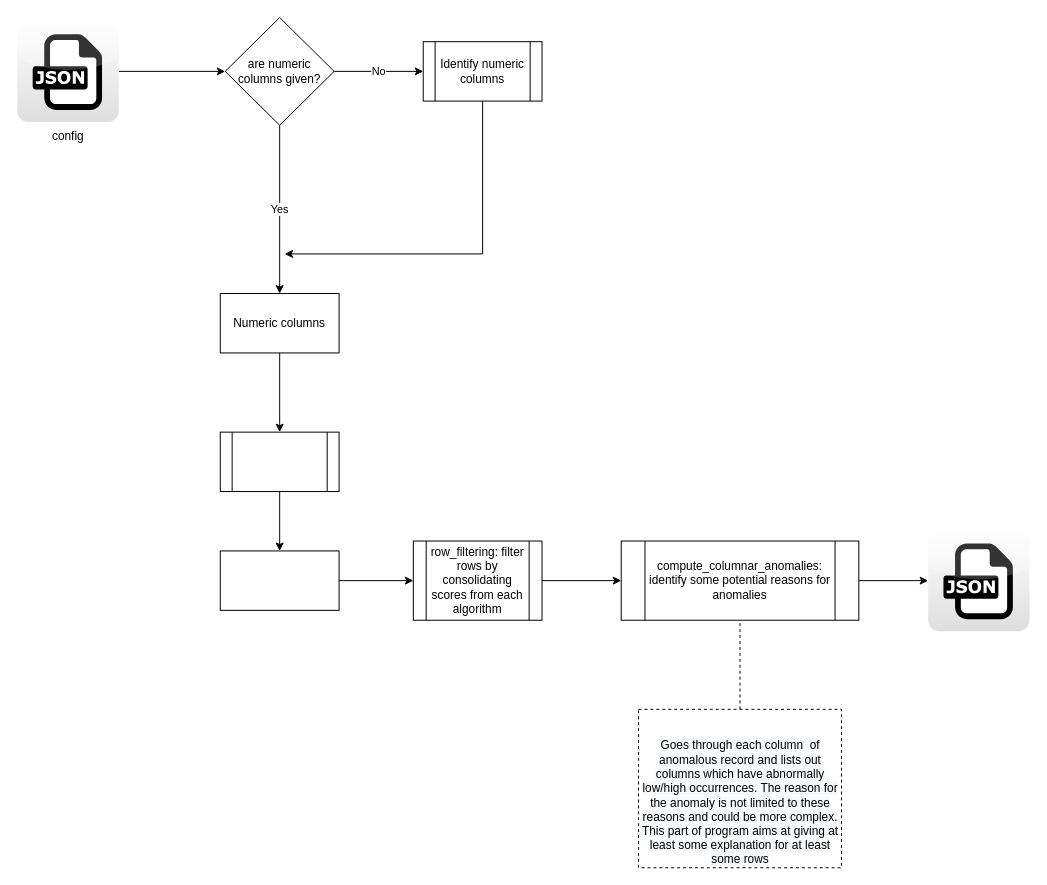
This 1047x885 diagram has some shape labels left out. Here are the shapes that lost their labels. From the top down, the box of each, then its label:
(219, 431, 339, 492): Fit the algorithms
(219, 550, 339, 610): Query on given data
(927, 529, 1030, 631): Output
